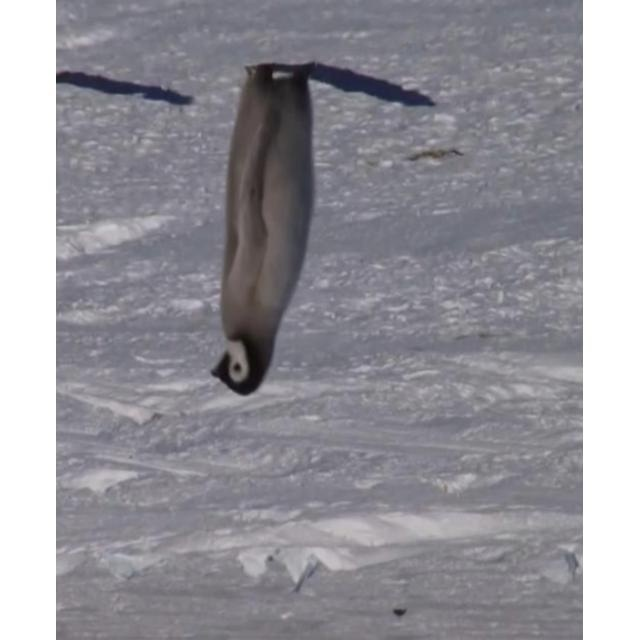penguin: (209, 60, 317, 396)
